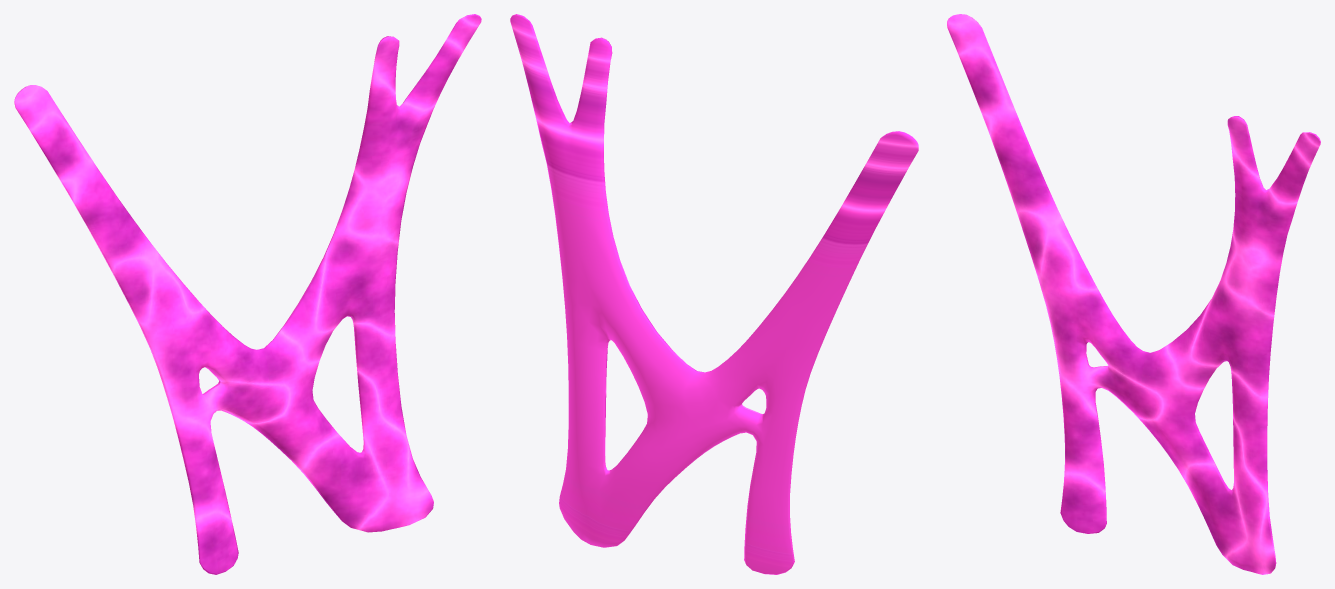
File: caos_drs_chaosenergy_01b_chaos_v36.glb
The picture shows the model from 3 angles, left to right: view 1: azimuth 30°, elevation 25°; view 2: azimuth 150°, elevation 25°; view 3: azimuth 330°, elevation 25°; orthographic projection. The views are drawn at different scales.
Visible parts, largest first — view 1: caos_drs_chaosenergy_01b; view 2: caos_drs_chaosenergy_01b; view 3: caos_drs_chaosenergy_01b.
Boxes of the visible parts, <box> form: caos_drs_chaosenergy_01b: <box>14,14,481,574</box>; caos_drs_chaosenergy_01b: <box>510,14,918,574</box>; caos_drs_chaosenergy_01b: <box>947,14,1320,574</box>.
Bounding box in the file's own units: 4.59 × 5.11 × 0.6296.
Materials: 1 (1 with a texture image).
